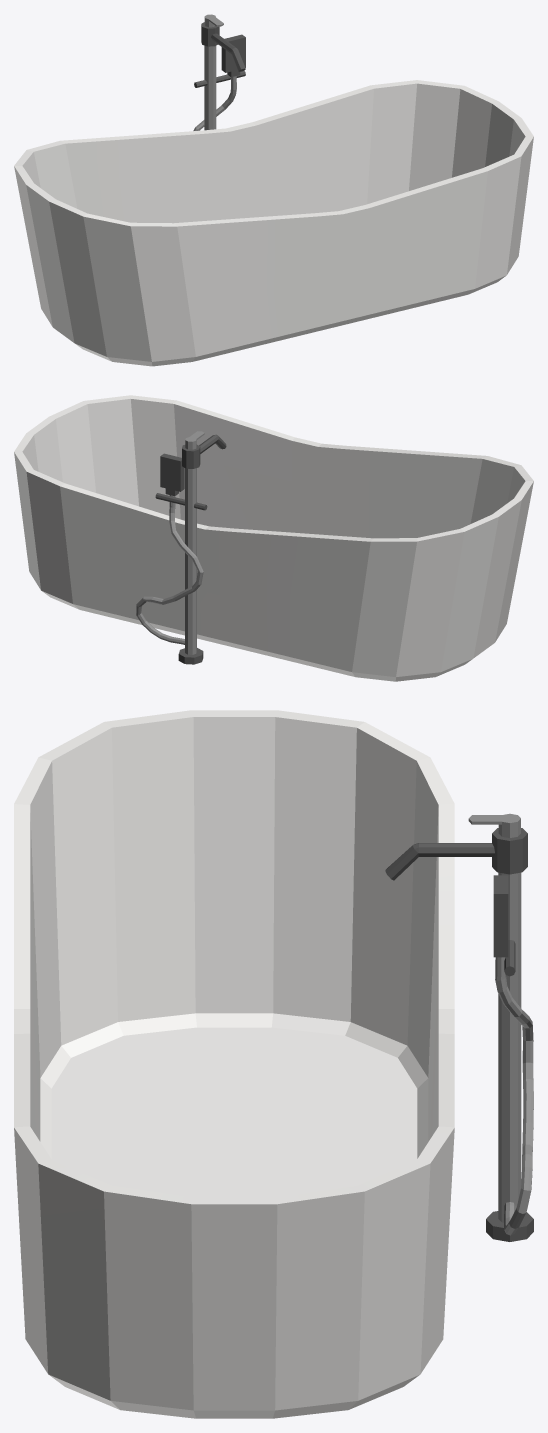
The model's file is Bath_1_231109.glb.
3 renders of one model, top to bottom at view 1: azimuth 30°, elevation 25°; view 2: azimuth 150°, elevation 25°; view 3: azimuth 270°, elevation 25°, orthographic. The views are drawn at different scales.
Visible parts, largest first — view 1: Bath_1; view 2: Bath_1; view 3: Bath_1.
Part boxes in pixels (left/top/right/bottom): Bath_1: left=14, top=14, right=533, bottom=366; Bath_1: left=14, top=395, right=533, bottom=681; Bath_1: left=14, top=710, right=533, bottom=1418.
Bounding box in the file's own units: 2.13 × 0.9467 × 1.08.
Materials: 1 (1 with a texture image).
